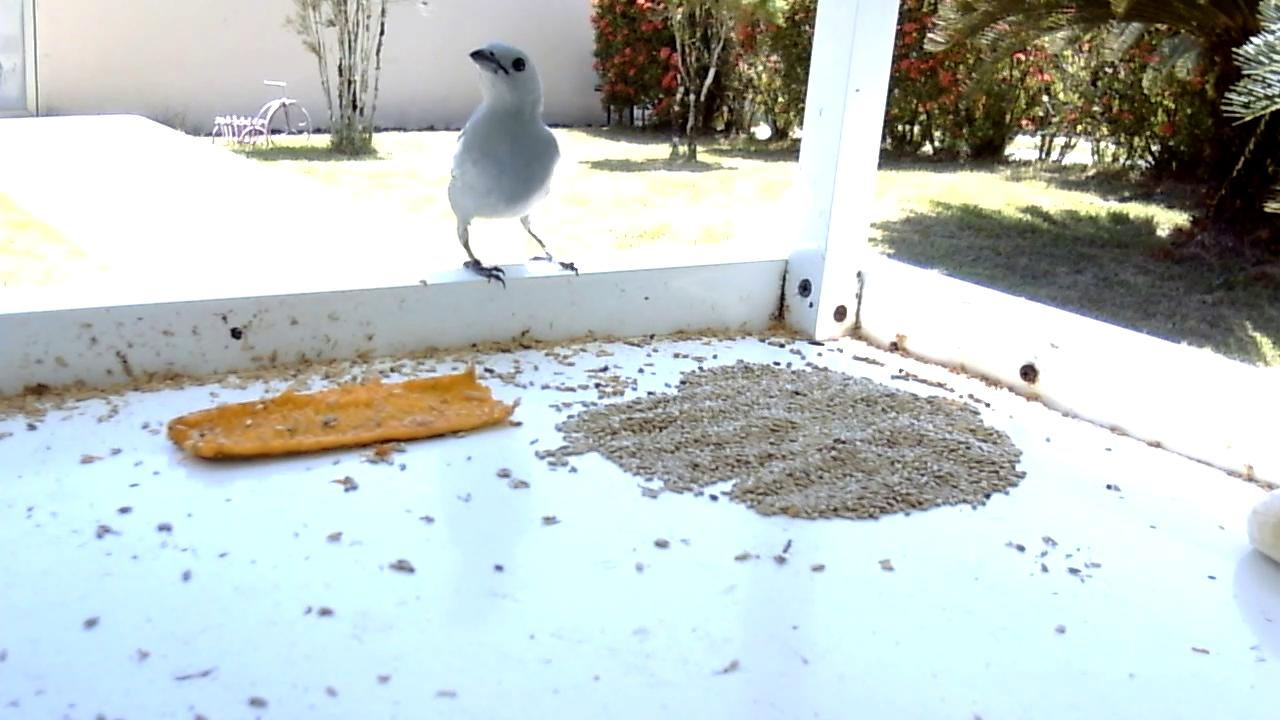sanhaco_da_amazonia: (447, 40, 581, 289)
